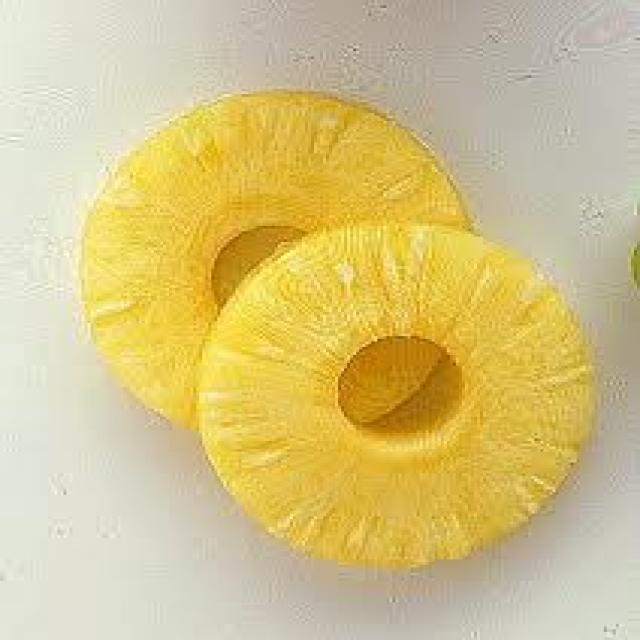pineapple: (63, 84, 601, 578)
